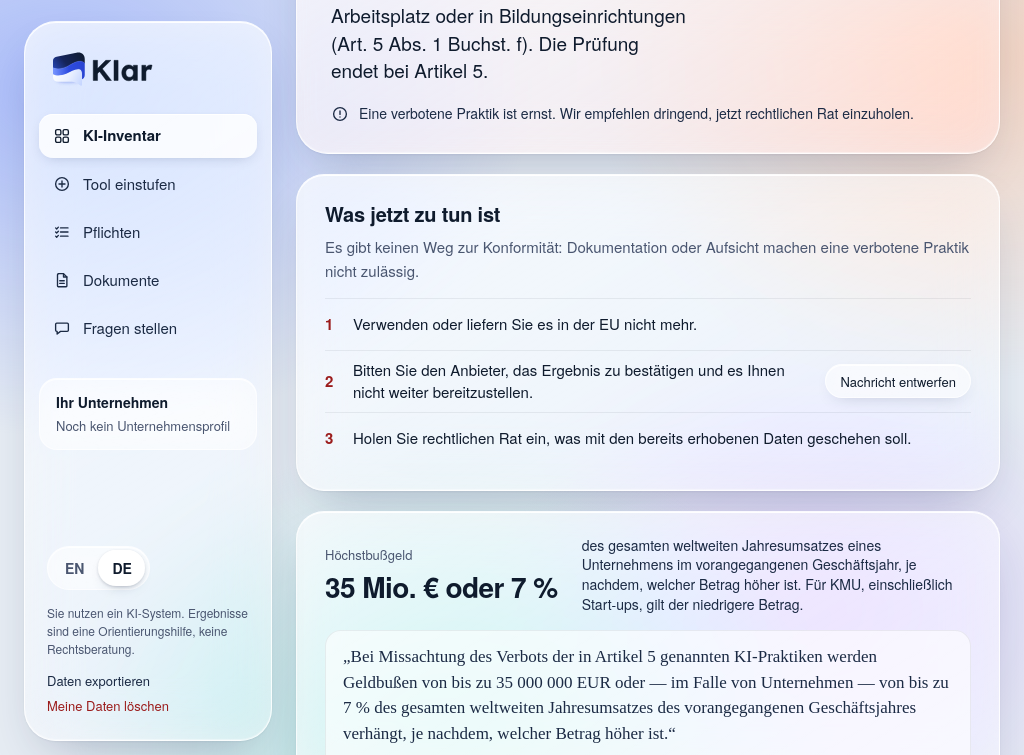
A recorded prohibited result (de) › opens the drafted message to the vendor
(page scrolled)
Click the button "Nachricht entwerfen".
click(898, 381)  # box [826,364,971,398]
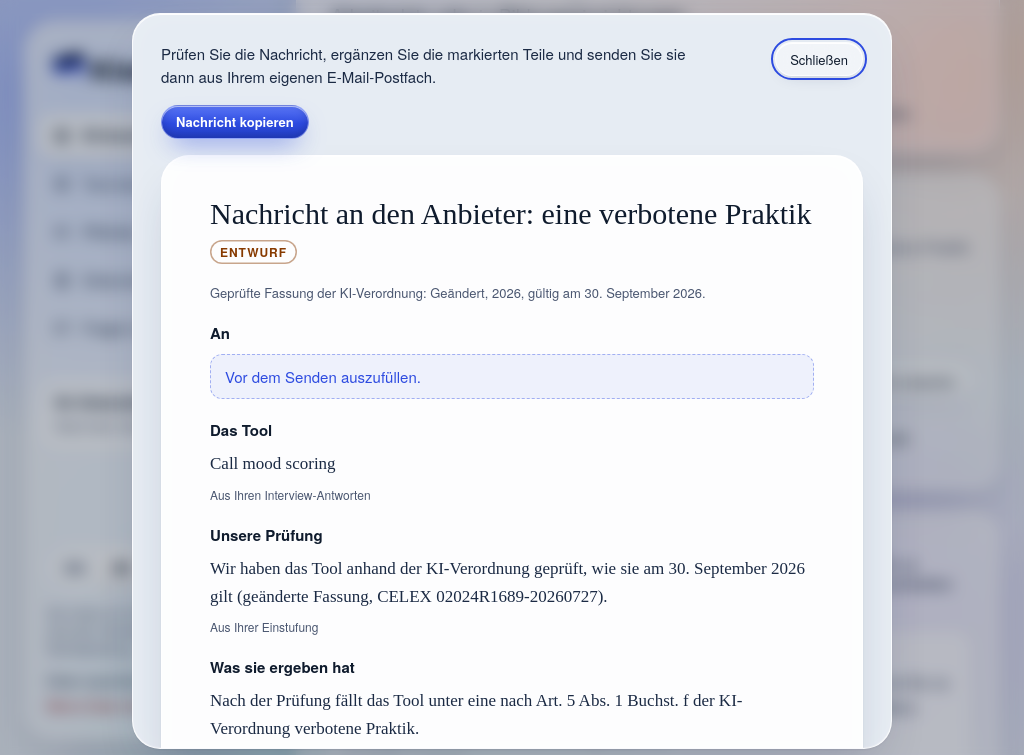
expect the heading "Nachricht an den Anbieter: eine verbotene Praktik" is shown: met, box [210,196,811,232]
expect the text "ENTWURF" is shown: met, box [210,240,297,264]
expect the text "Prüfen Sie die Nachricht, ergänzen Sie die markierten Teile und senden Sie sie dann aus Ihrem eigenen E-Mail-Postfach." is shown: met, box [161,43,686,87]
Click the button "Schließen".
click(819, 59)  # box [775,42,863,76]
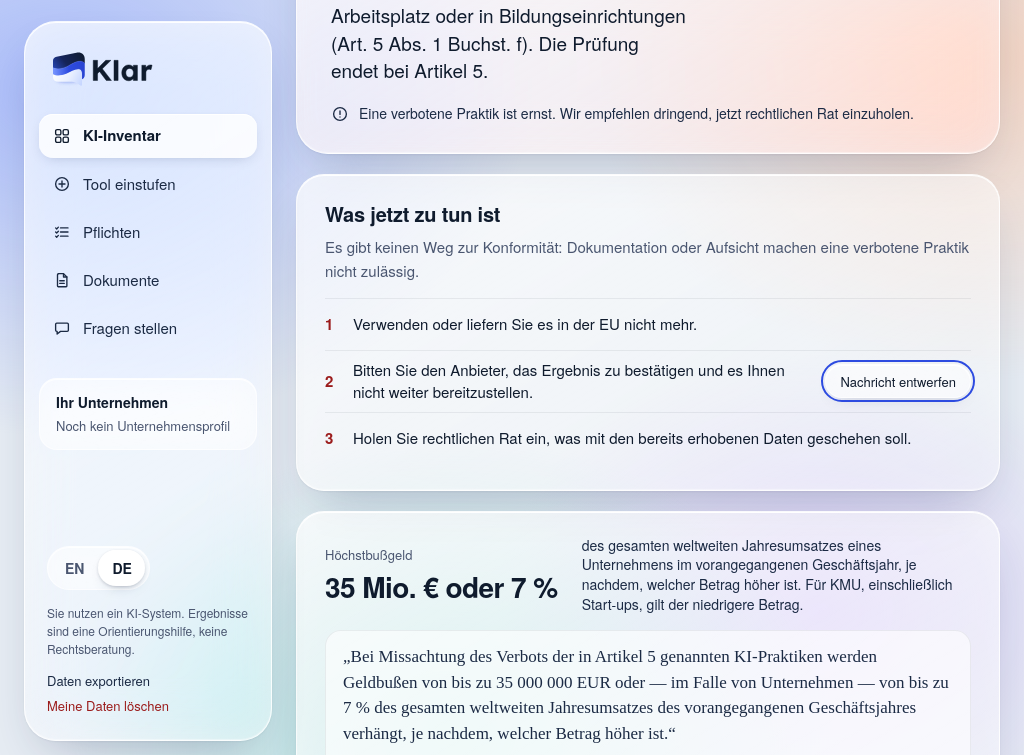
expect the button "Nachricht entwerfen" is shown: met, box [826,364,971,398]
expect the dialog is gone: met
